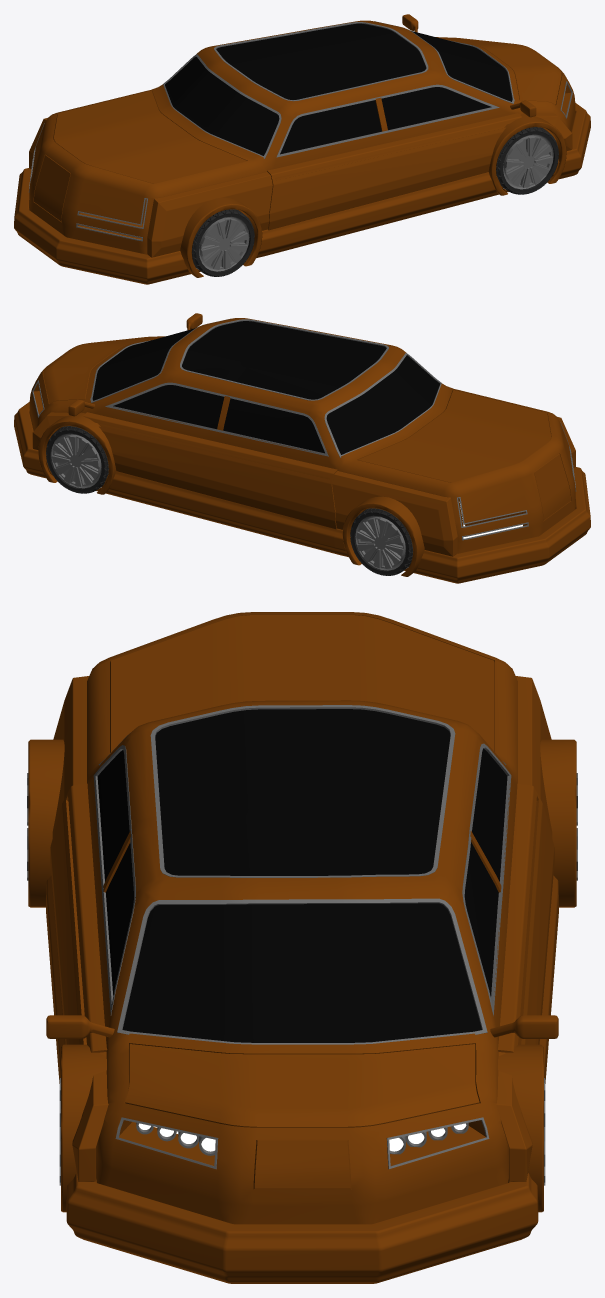
The model's file is toon_car_3.glb.
3 renders of one model, top to bottom at view 1: azimuth 30°, elevation 25°; view 2: azimuth 150°, elevation 25°; view 3: azimuth 270°, elevation 25°, orthographic. The views are drawn at different scales.
Visible parts, largest first — view 1: geo1; view 2: geo1; view 3: geo1.
Part boxes in pixels (box(x1,y1,x2,y2)): geo1: box(14, 14, 590, 284); geo1: box(14, 313, 590, 583); geo1: box(27, 612, 577, 1283).
Size of the model in its own units: 5.67 by 1.35 by 2.52.
